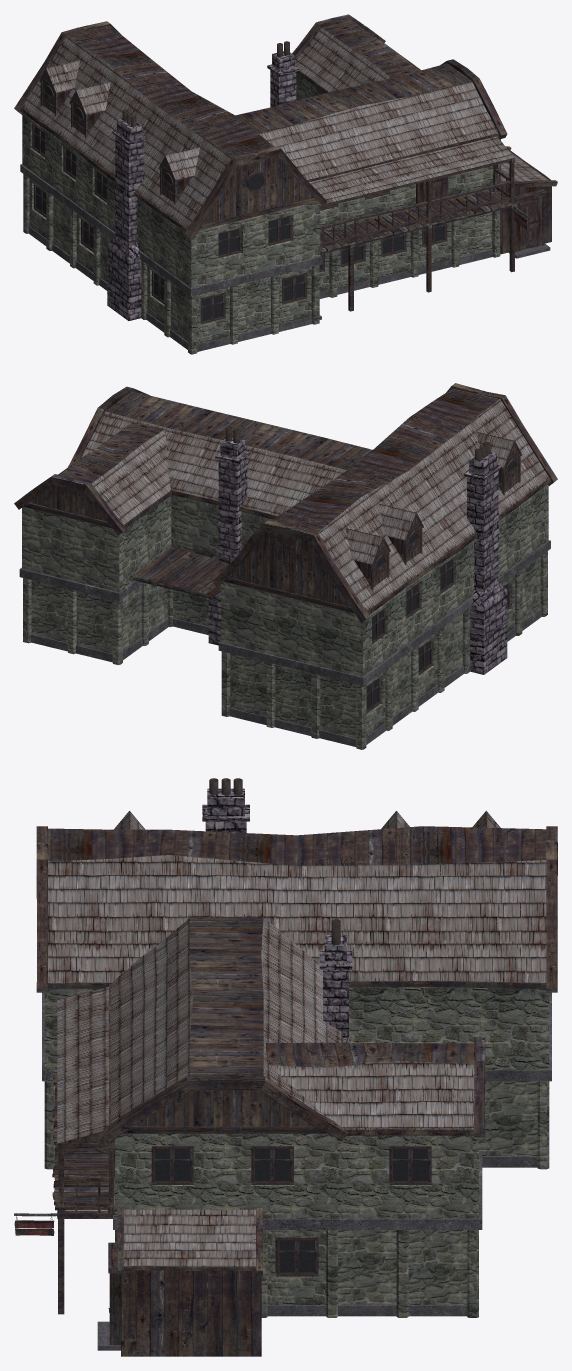
Rendered from building-tradehall.glb.
The picture shows the model from 3 angles, top to bottom: view 1: azimuth 30°, elevation 25°; view 2: azimuth 150°, elevation 25°; view 3: azimuth 270°, elevation 25°; orthographic projection. The views are drawn at different scales.
Visible parts, largest first — view 1: TradehallArchitecture; view 2: TradehallArchitecture; view 3: TradehallArchitecture.
Part boxes in pixels (<box>): TradehallArchitecture: <box>14,14,557,354</box>; TradehallArchitecture: <box>14,383,557,749</box>; TradehallArchitecture: <box>14,778,557,1356</box>.
Bounding box in the file's own units: 17.8 × 8.32 × 13.91.
10 materials, 10 textured.
